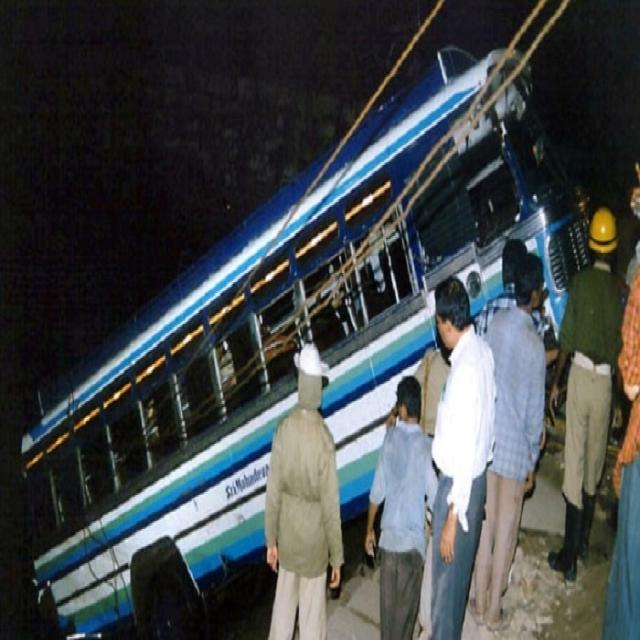accident: (21, 18, 589, 634)
